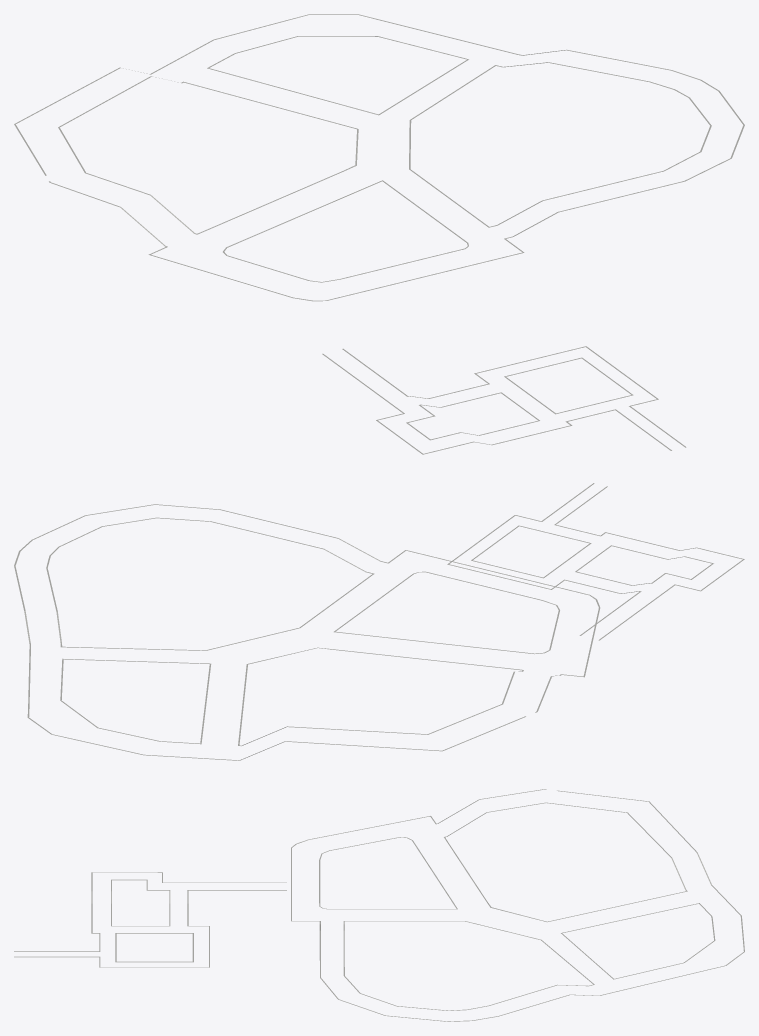
Rendered from kd_stage_1364a3_11_10_bounded.glb.
The picture shows the model from 3 angles, top to bottom: view 1: azimuth 30°, elevation 25°; view 2: azimuth 150°, elevation 25°; view 3: azimuth 270°, elevation 25°; orthographic projection. The views are drawn at different scales.
Visible parts, largest first — view 1: kd_stage_1364a3_11_10_bounded; view 2: kd_stage_1364a3_11_10_bounded; view 3: kd_stage_1364a3_11_10_bounded.
Boxes of the visible parts, x1,y1,x2,y2 form: kd_stage_1364a3_11_10_bounded: (14, 14, 744, 454); kd_stage_1364a3_11_10_bounded: (14, 483, 744, 760); kd_stage_1364a3_11_10_bounded: (14, 789, 744, 1021).
Size of the model in its own units: 111 by 13.94 by 152.
Materials: 1 (1 with a texture image).
